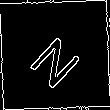N_NE: (24, 23, 86, 87)
